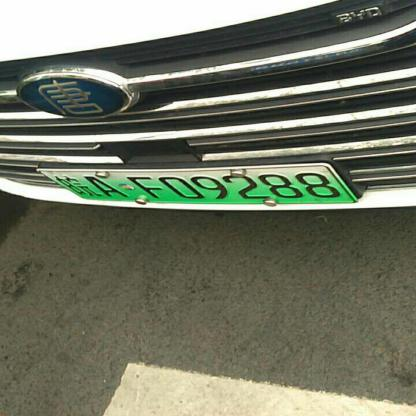lp: (39, 166, 83, 200)
